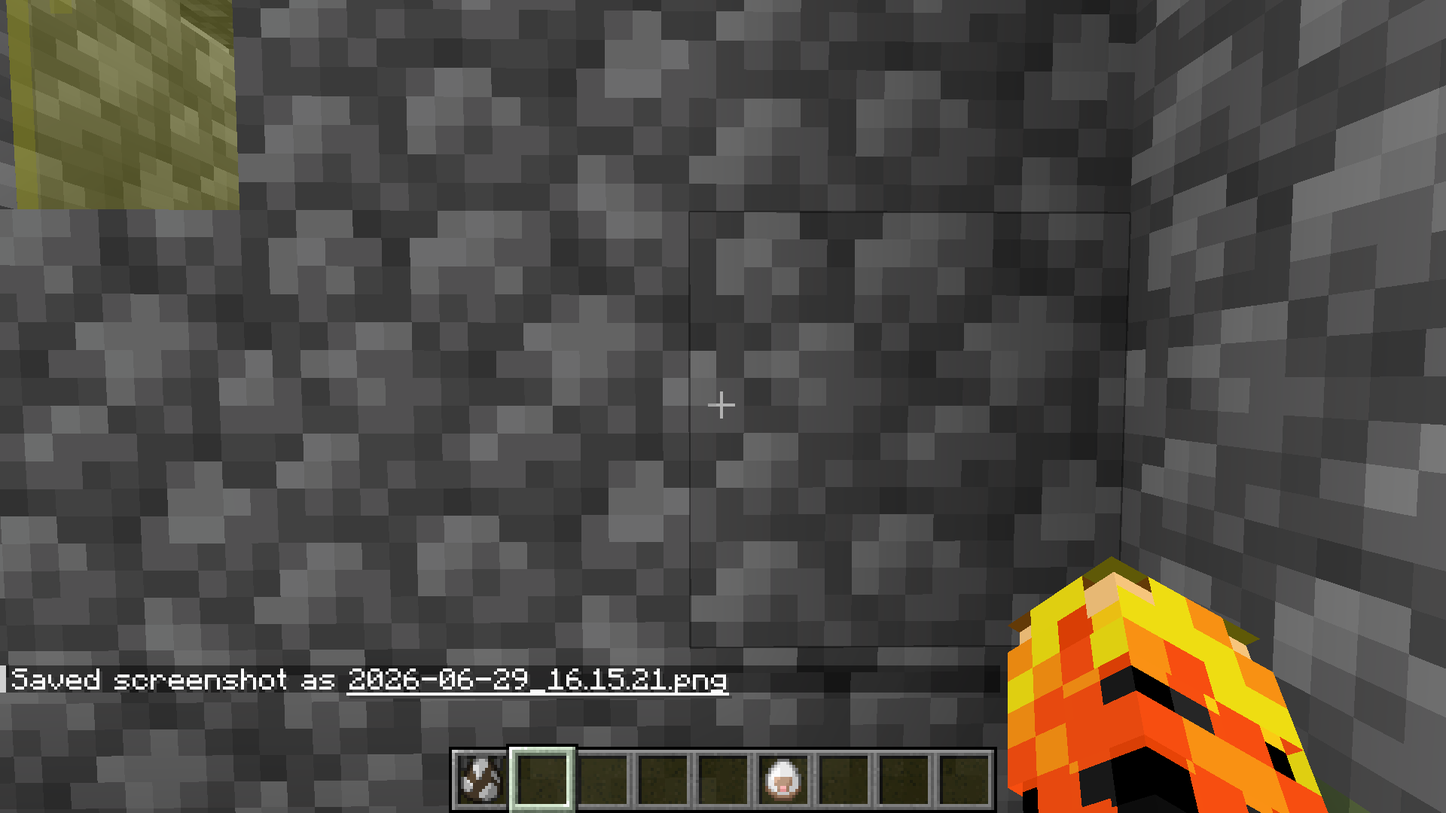cablestone: (243, 211, 682, 657), (693, 211, 1128, 571), (1161, 217, 1446, 594), (0, 211, 235, 662), (252, 6, 689, 207), (705, 5, 1145, 196), (1155, 6, 1434, 205)
